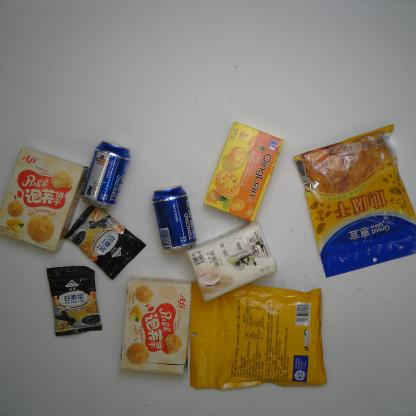Alcohol: (80, 139, 132, 209), (152, 184, 196, 254)
Dessert: (1, 145, 90, 252), (203, 121, 285, 222), (119, 274, 195, 376)
Dried Fruit: (293, 122, 415, 280), (185, 277, 328, 390)
Instant Drink: (63, 200, 148, 281), (45, 264, 102, 336)
Tissue: (185, 219, 279, 303)
